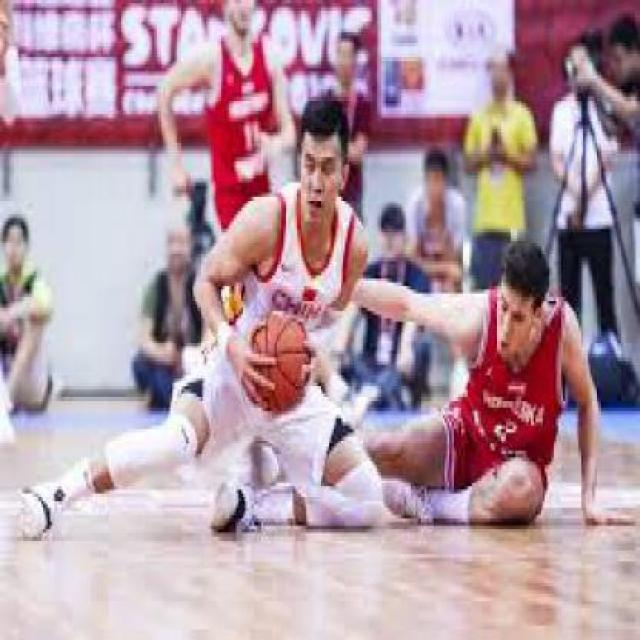fall: (355, 218, 610, 525)
